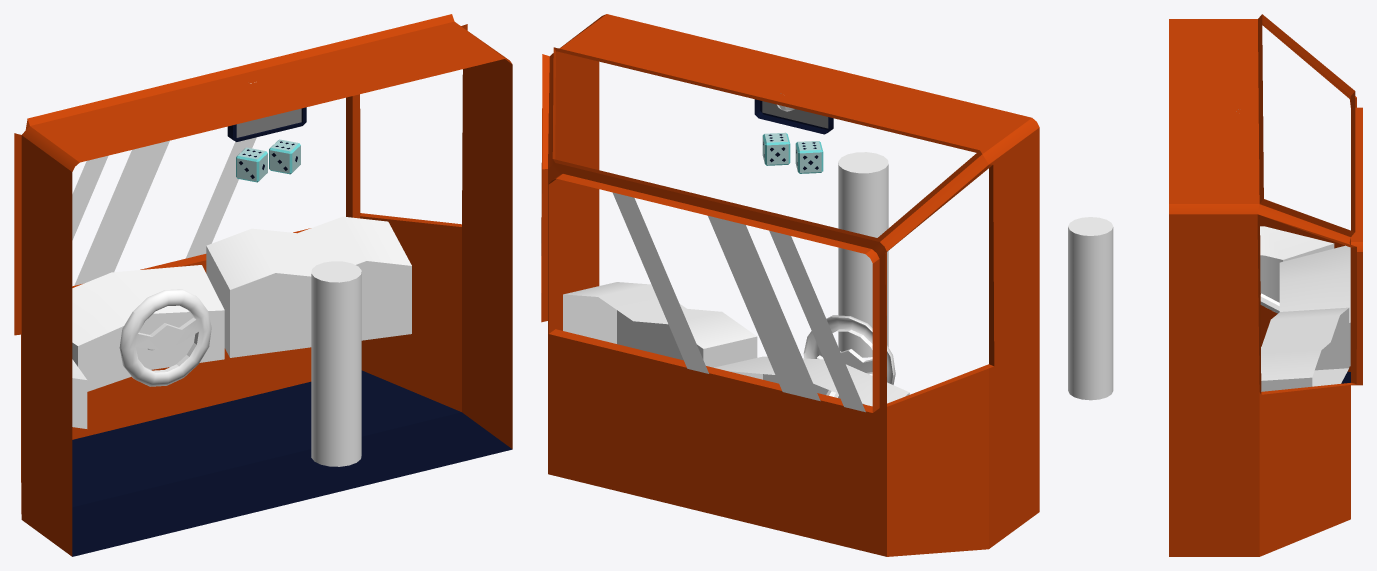
The model's file is dashboard_color 1.fbx.
3 renders of one model, left to right at view 1: azimuth 30°, elevation 25°; view 2: azimuth 150°, elevation 25°; view 3: azimuth 270°, elevation 25°, orthographic. The views are drawn at different scales.
Parts seen in each view (by area): view 1: pCube1, polySurface1, polySurface2, pCylinder4, pCylinder1, pPlane2, pPlane1, pCube3, pPlane3, pCube5, pCube4, polySurface3; view 2: pCube1, polySurface1, pCylinder4, pPlane2, pPlane1, pPlane3, polySurface2, pCylinder1, pCube3, pCube4, pCube5; view 3: pCube1, pCylinder4, polySurface1, polySurface2, polySurface3.
Part boxes in pixels (left/top/right/bottom): pCube1: left=14, top=14, right=512, bottom=556; polySurface1: left=206, top=216, right=411, bottom=357; polySurface2: left=72, top=265, right=224, bottom=391; pCylinder4: left=311, top=261, right=361, bottom=466; pCylinder1: left=119, top=289, right=211, bottom=386; pPlane2: left=74, top=140, right=169, bottom=285; pPlane1: left=186, top=137, right=256, bottom=258; pCube3: left=227, top=107, right=306, bottom=141; pPlane3: left=72, top=155, right=108, bottom=240; pCube5: left=269, top=139, right=300, bottom=174; pCube4: left=236, top=147, right=267, bottom=182; polySurface3: left=72, top=359, right=87, bottom=428; pCube1: left=541, top=14, right=1039, bottom=556; polySurface1: left=563, top=282, right=757, bottom=367; pCylinder4: left=838, top=152, right=888, bottom=357; pPlane2: left=708, top=216, right=820, bottom=401; pPlane1: left=612, top=192, right=708, bottom=373; pPlane3: left=769, top=230, right=865, bottom=412; polySurface2: left=714, top=356, right=909, bottom=406; pCylinder1: left=803, top=315, right=895, bottom=384; pCube3: left=754, top=99, right=833, bottom=134; pCube4: left=795, top=141, right=823, bottom=173; pCube5: left=762, top=132, right=790, bottom=165; pCube1: left=1169, top=14, right=1362, bottom=556; pCylinder4: left=1068, top=217, right=1113, bottom=400; polySurface1: left=1261, top=307, right=1349, bottom=391; polySurface2: left=1279, top=245, right=1350, bottom=366; polySurface3: left=1260, top=226, right=1334, bottom=302.
Bounding box in the file's own units: 20.58 × 17.29 × 13.01.
